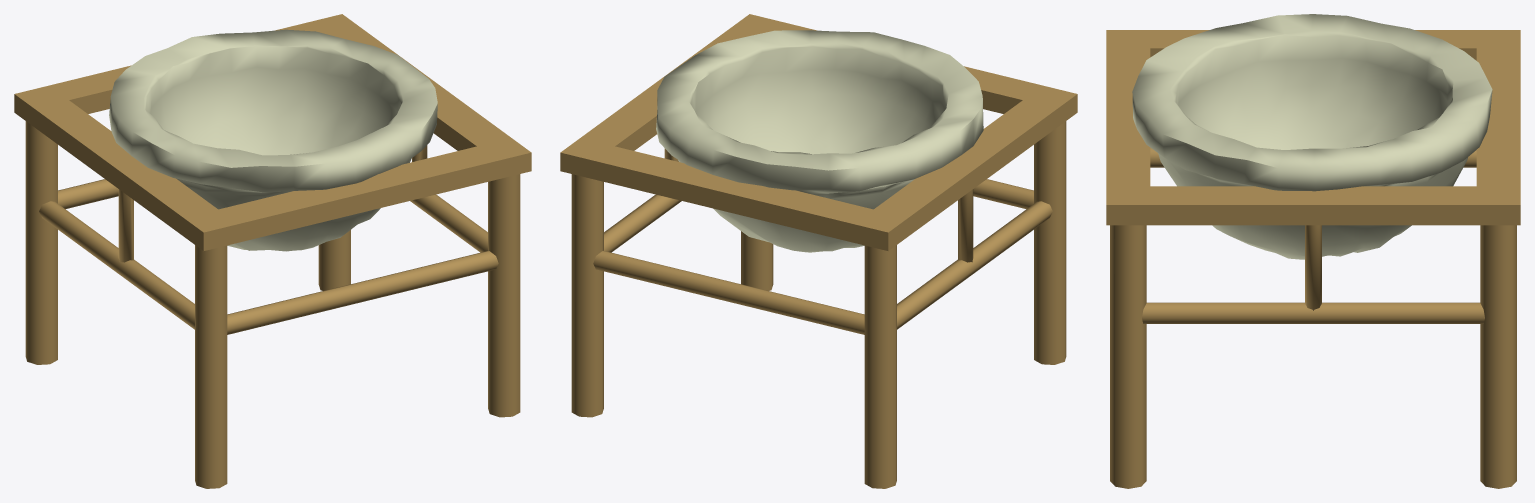
File: SM_GoblinCamp_PotAndStand.fbx
The picture shows the model from 3 angles, left to right: view 1: azimuth 30°, elevation 25°; view 2: azimuth 150°, elevation 25°; view 3: azimuth 270°, elevation 25°; orthographic projection. The views are drawn at different scales.
Parts seen in each view (by area): view 1: SM_GoblinCamp_PotAndStand; view 2: SM_GoblinCamp_PotAndStand; view 3: SM_GoblinCamp_PotAndStand.
Part boxes in pixels (<box>): SM_GoblinCamp_PotAndStand: <box>14,14,531,488</box>; SM_GoblinCamp_PotAndStand: <box>560,14,1077,488</box>; SM_GoblinCamp_PotAndStand: <box>1106,14,1520,488</box>.
Bounding box in the file's own units: 89.46 × 74.89 × 89.46.
